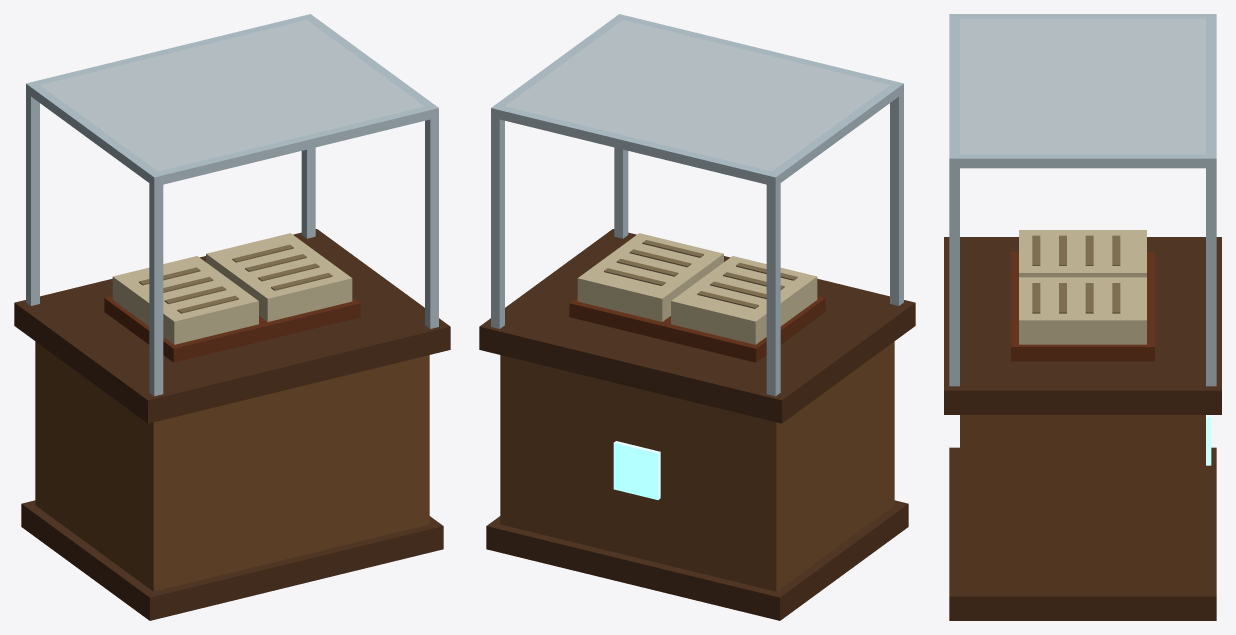
File: tv-glass-case.glb
The picture shows the model from 3 angles, left to right: view 1: azimuth 30°, elevation 25°; view 2: azimuth 150°, elevation 25°; view 3: azimuth 270°, elevation 25°; orthographic projection. The views are drawn at different scales.
Visible parts, largest first — view 1: box-prop; view 2: box-prop; view 3: box-prop.
Part boxes in pixels (x1,y1,x2,y2): box-prop: (14, 14, 450, 620); box-prop: (479, 14, 915, 620); box-prop: (944, 14, 1221, 620).
Bounding box in the file's own units: 1.36 × 1.9 × 1.04.
